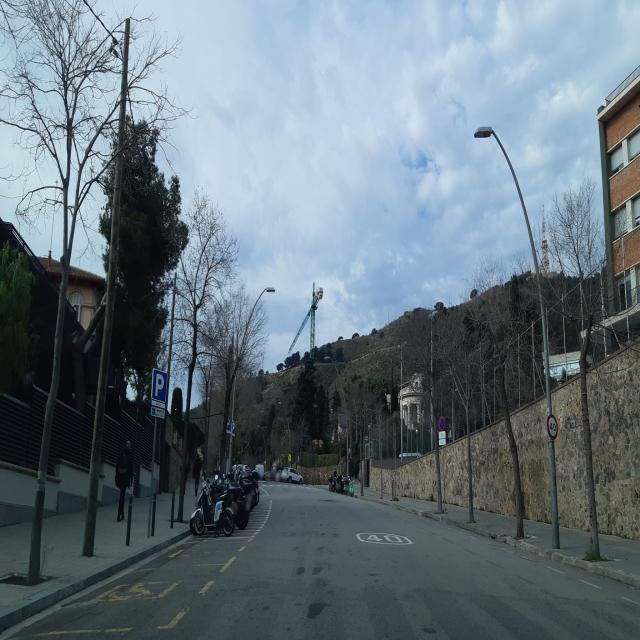bike: (190, 478, 235, 538)
car: (282, 466, 304, 484), (255, 462, 265, 480)
